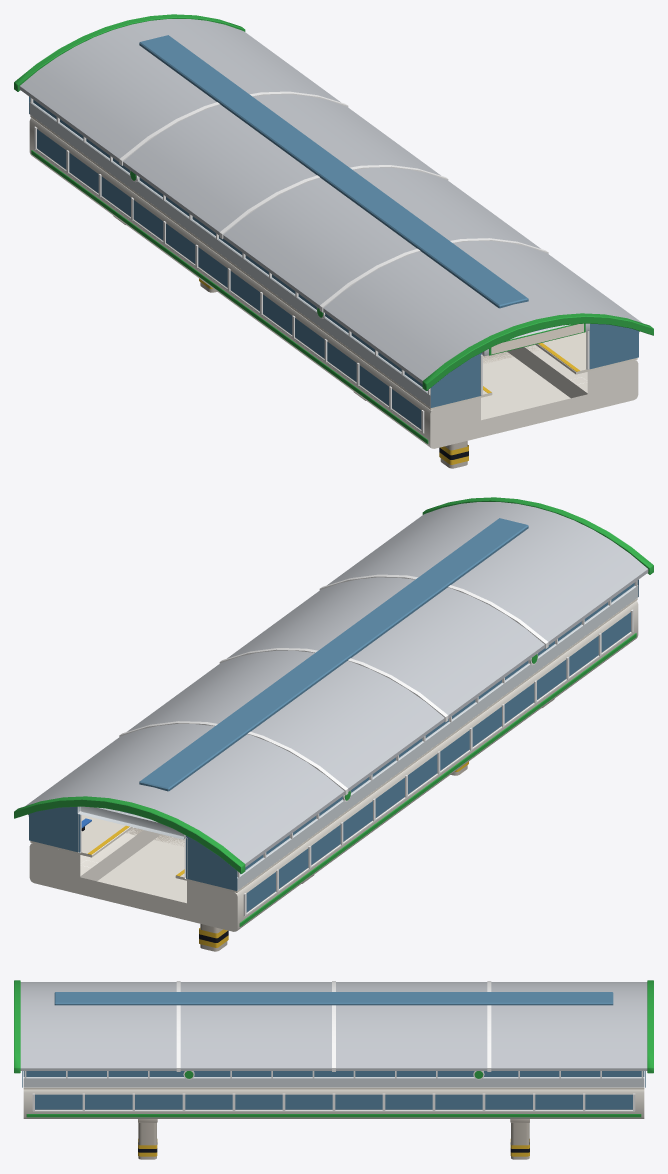
The model's file is bts_station.glb.
3 views of the same model, one above another, from view 1: azimuth 30°, elevation 25°; view 2: azimuth 150°, elevation 25°; view 3: azimuth 270°, elevation 25° (orthographic). The views are drawn at different scales.
Visible parts, largest first — view 1: body, signboard; view 2: body; view 3: body.
Part boxes in pixels (bbox=[...]): body: bbox=[14, 14, 653, 468]; signboard: bbox=[491, 323, 583, 354]; body: bbox=[14, 497, 653, 951]; body: bbox=[14, 980, 653, 1159].
Size of the model in its own units: 19.7 by 16.92 by 61.84.
